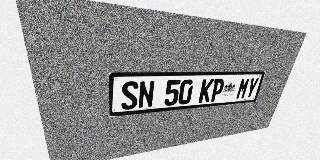0: (177, 79, 194, 105)
5: (164, 80, 181, 106)
K: (198, 79, 214, 103)
M: (235, 78, 251, 99)
N: (138, 80, 155, 109)
P: (209, 79, 225, 102)
S: (121, 81, 139, 110)
Y: (244, 78, 259, 99)
